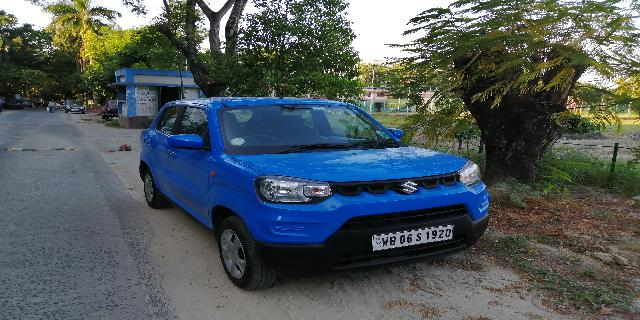Car: (134, 89, 493, 300)
